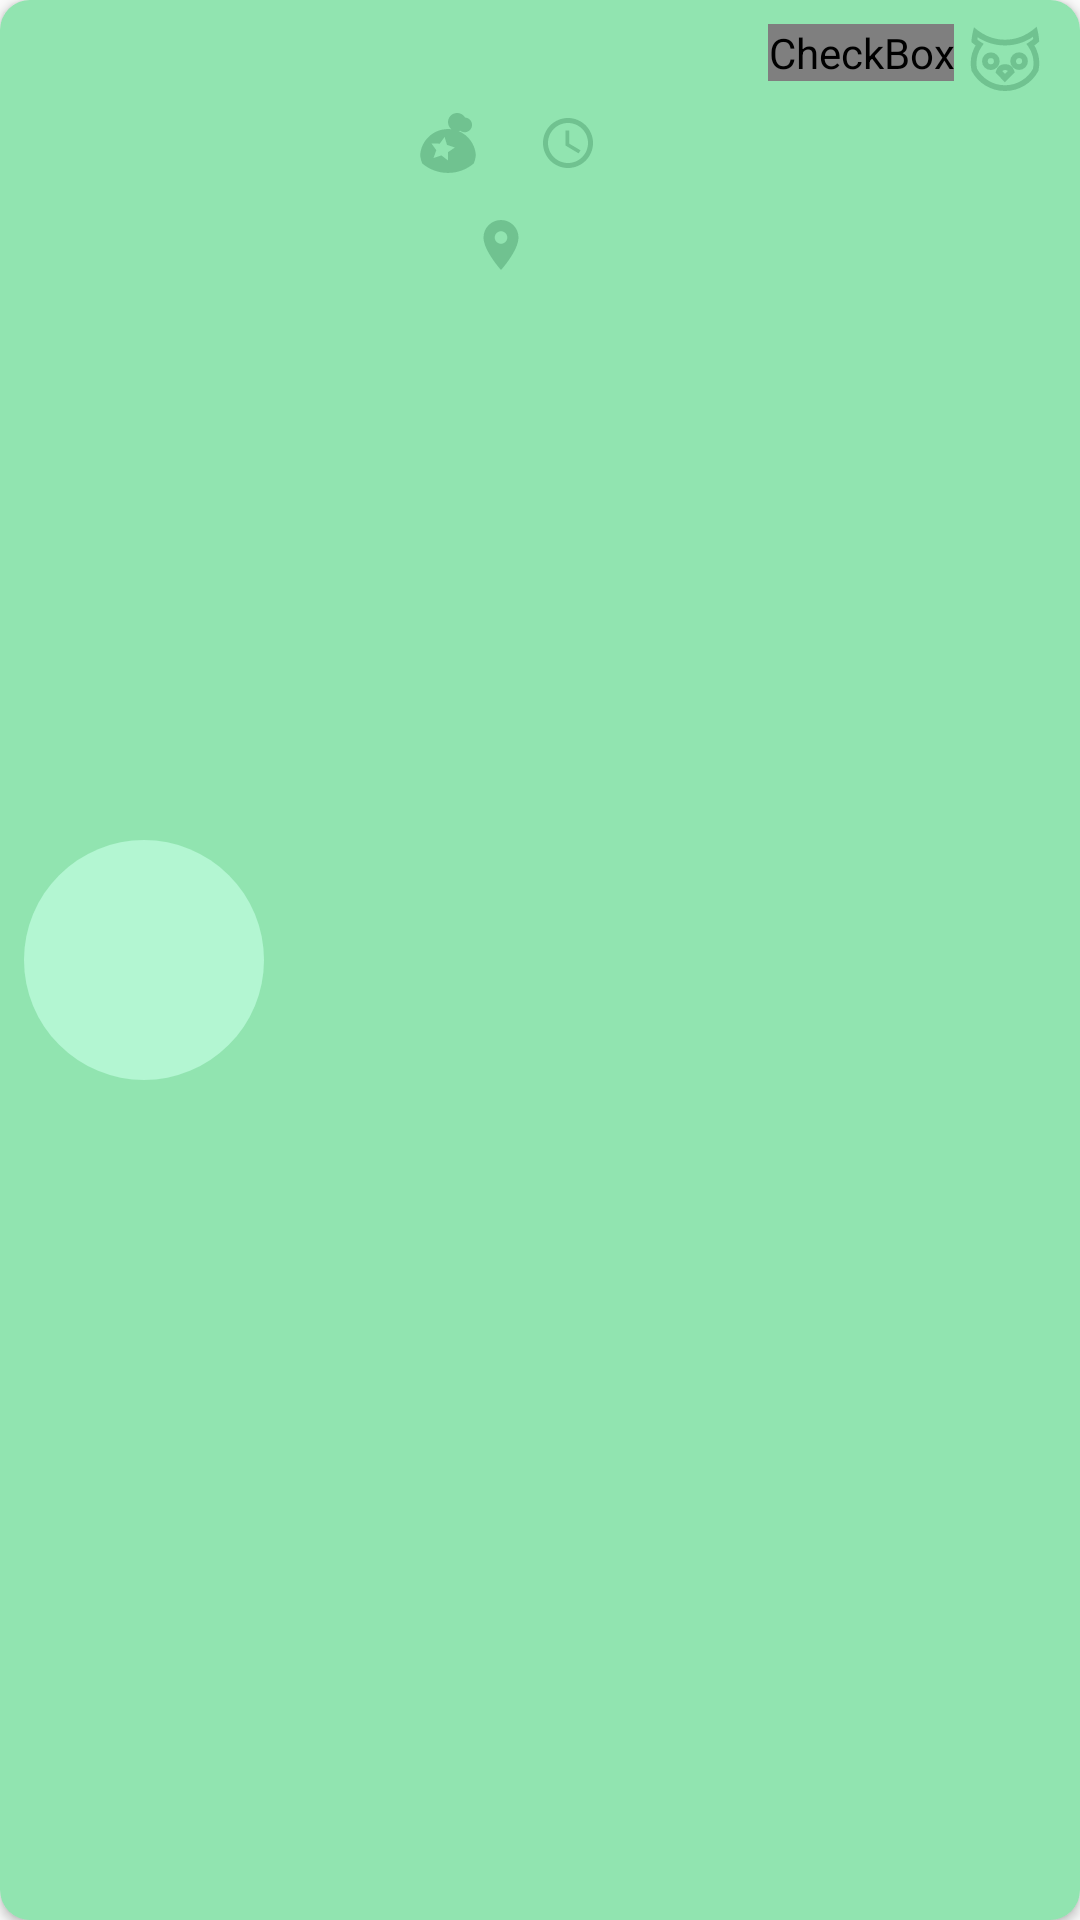

Icons on this 1080px×1920px Android screen, each with its box as (x1, y1, x2, y2):
access time: (543, 118, 593, 168)
bells: (420, 113, 476, 173)
location on: (484, 220, 518, 269)
